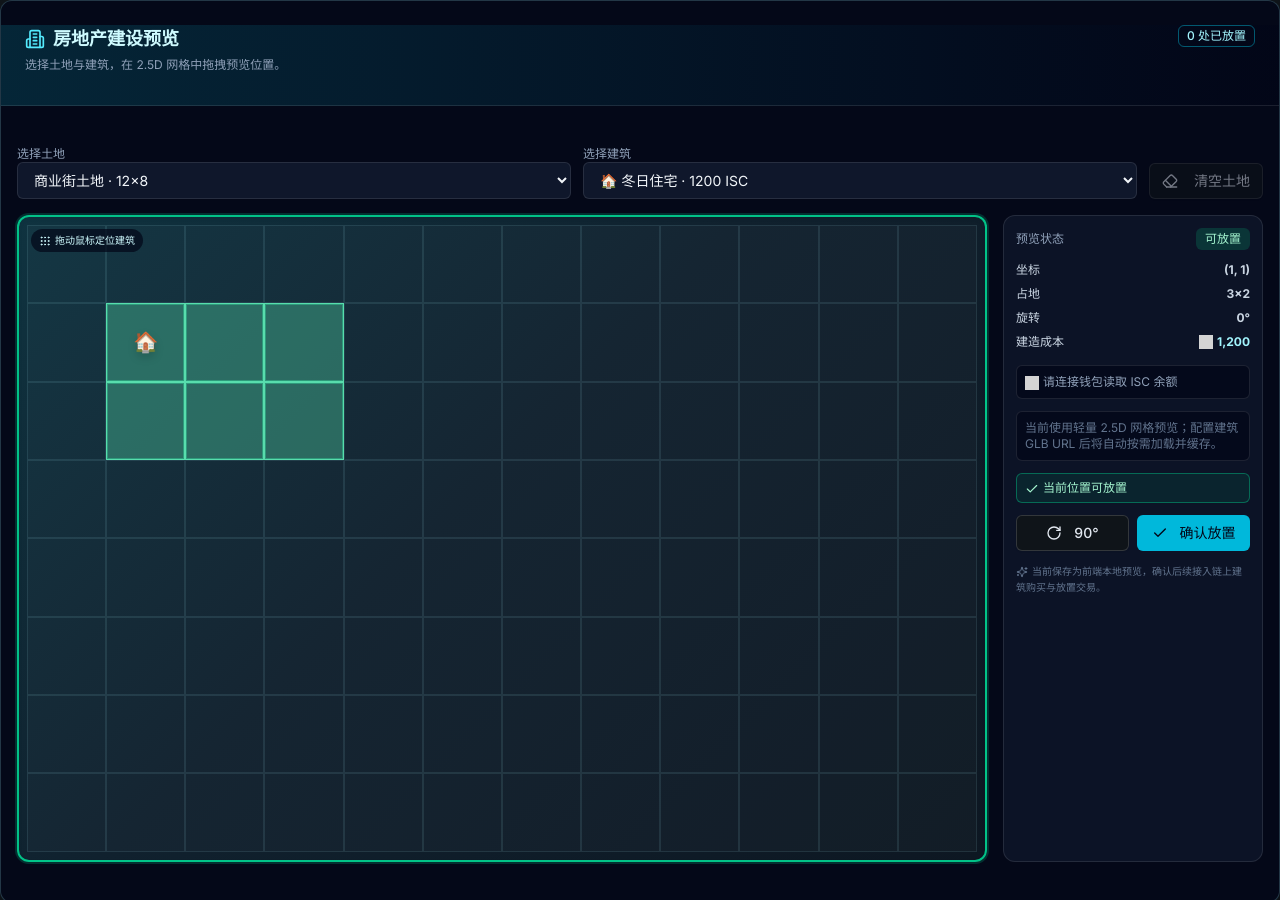
Scenario: RealEstatePlacementManager › requires a known ISC balance before confirming placement
The image size is (1280, 900).
What coordinates should you click on to do the following:
click the button "确认放置"
I would click on:
 (1194, 533)
Its box is x1=1137 y1=515 x2=1250 y2=551.
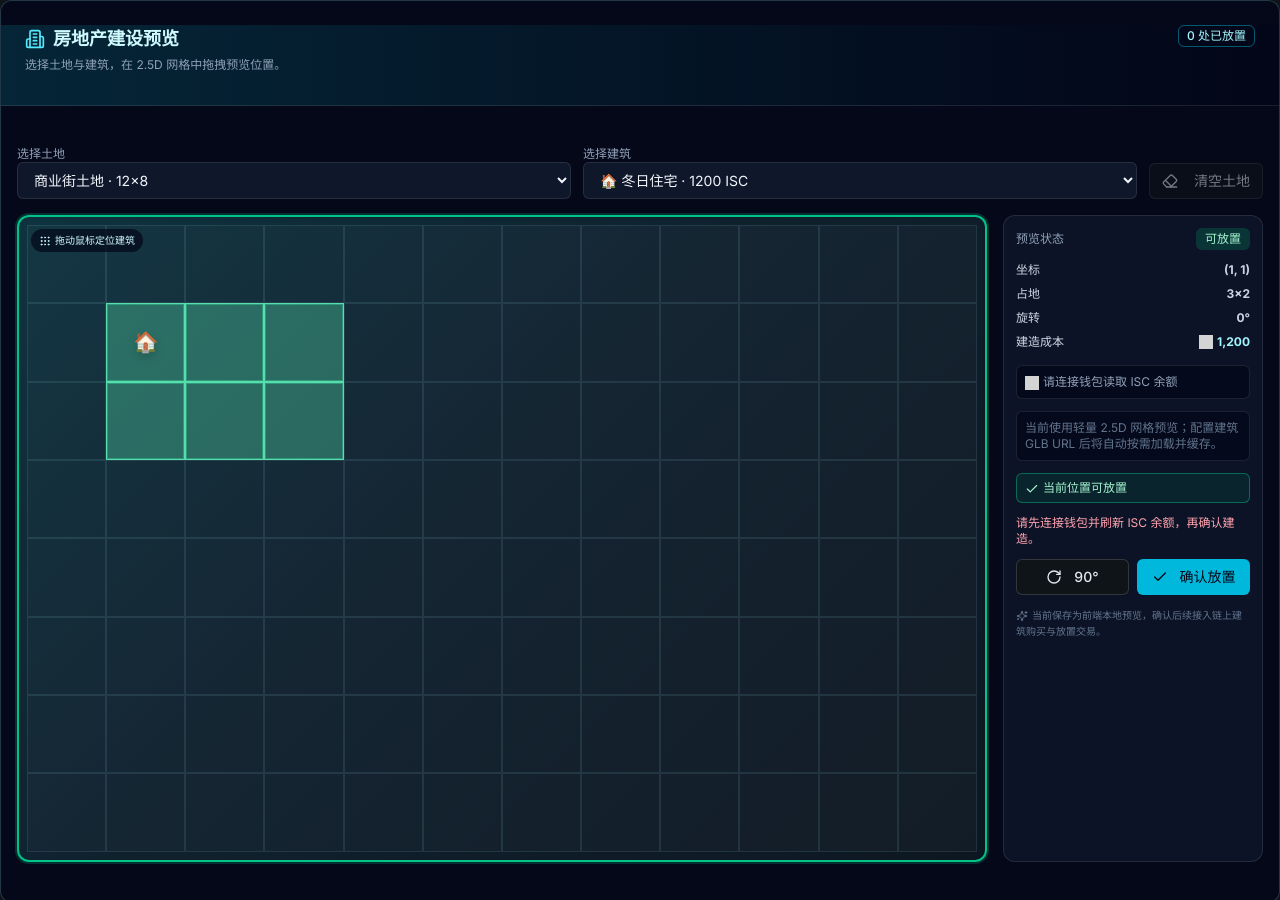
Result: the text "请先连接钱包并刷新 ISC 余额，再确认建造。" is shown at x1=1016 y1=515 x2=1250 y2=547
